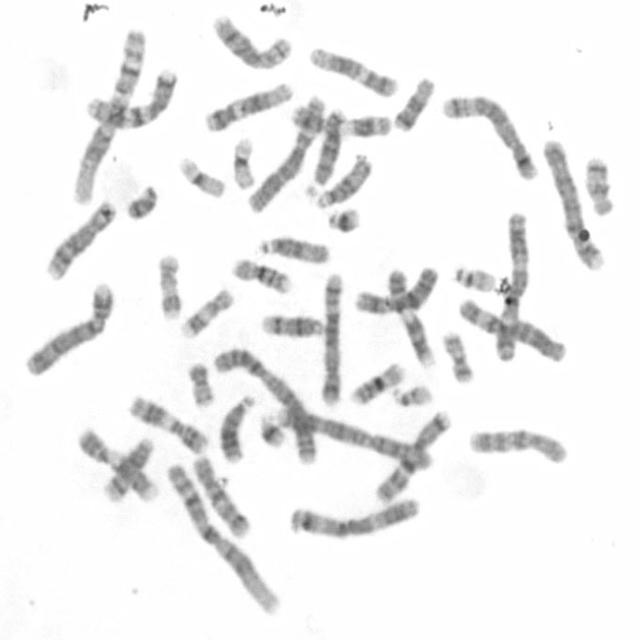A1: (164, 460, 284, 617), (72, 29, 150, 208)
A2: (210, 347, 318, 465), (276, 405, 437, 474)
A3: (290, 498, 425, 542), (493, 211, 528, 365)
B4: (24, 282, 118, 378), (540, 136, 606, 272)
B5: (442, 93, 540, 182), (320, 272, 344, 406)
C10: (192, 455, 253, 543), (467, 425, 570, 468)
C11: (128, 395, 210, 455), (289, 104, 392, 138)
C12: (306, 44, 399, 100), (204, 82, 295, 134)
C6: (243, 92, 325, 216), (458, 297, 568, 365)
C7: (372, 408, 452, 506), (84, 68, 182, 131)
C8: (45, 199, 118, 281), (212, 12, 294, 71)
C9: (75, 428, 161, 507), (384, 267, 439, 367)
D13: (302, 107, 347, 197), (217, 394, 256, 464)
D14: (102, 434, 158, 506), (259, 312, 324, 338)
D15: (304, 156, 374, 208), (258, 236, 333, 266)
E16: (350, 359, 406, 407), (228, 259, 294, 296)
E17: (177, 286, 238, 343), (154, 253, 184, 320)
E18: (392, 76, 436, 136), (584, 156, 616, 217)
F19: (177, 154, 226, 198), (232, 136, 258, 190)
F20: (442, 330, 476, 384), (187, 360, 216, 410)
G21: (323, 208, 366, 237), (259, 413, 287, 451)
G22: (454, 266, 496, 294), (390, 382, 435, 408)
X: (354, 266, 441, 318)
Y: (125, 182, 158, 223)
